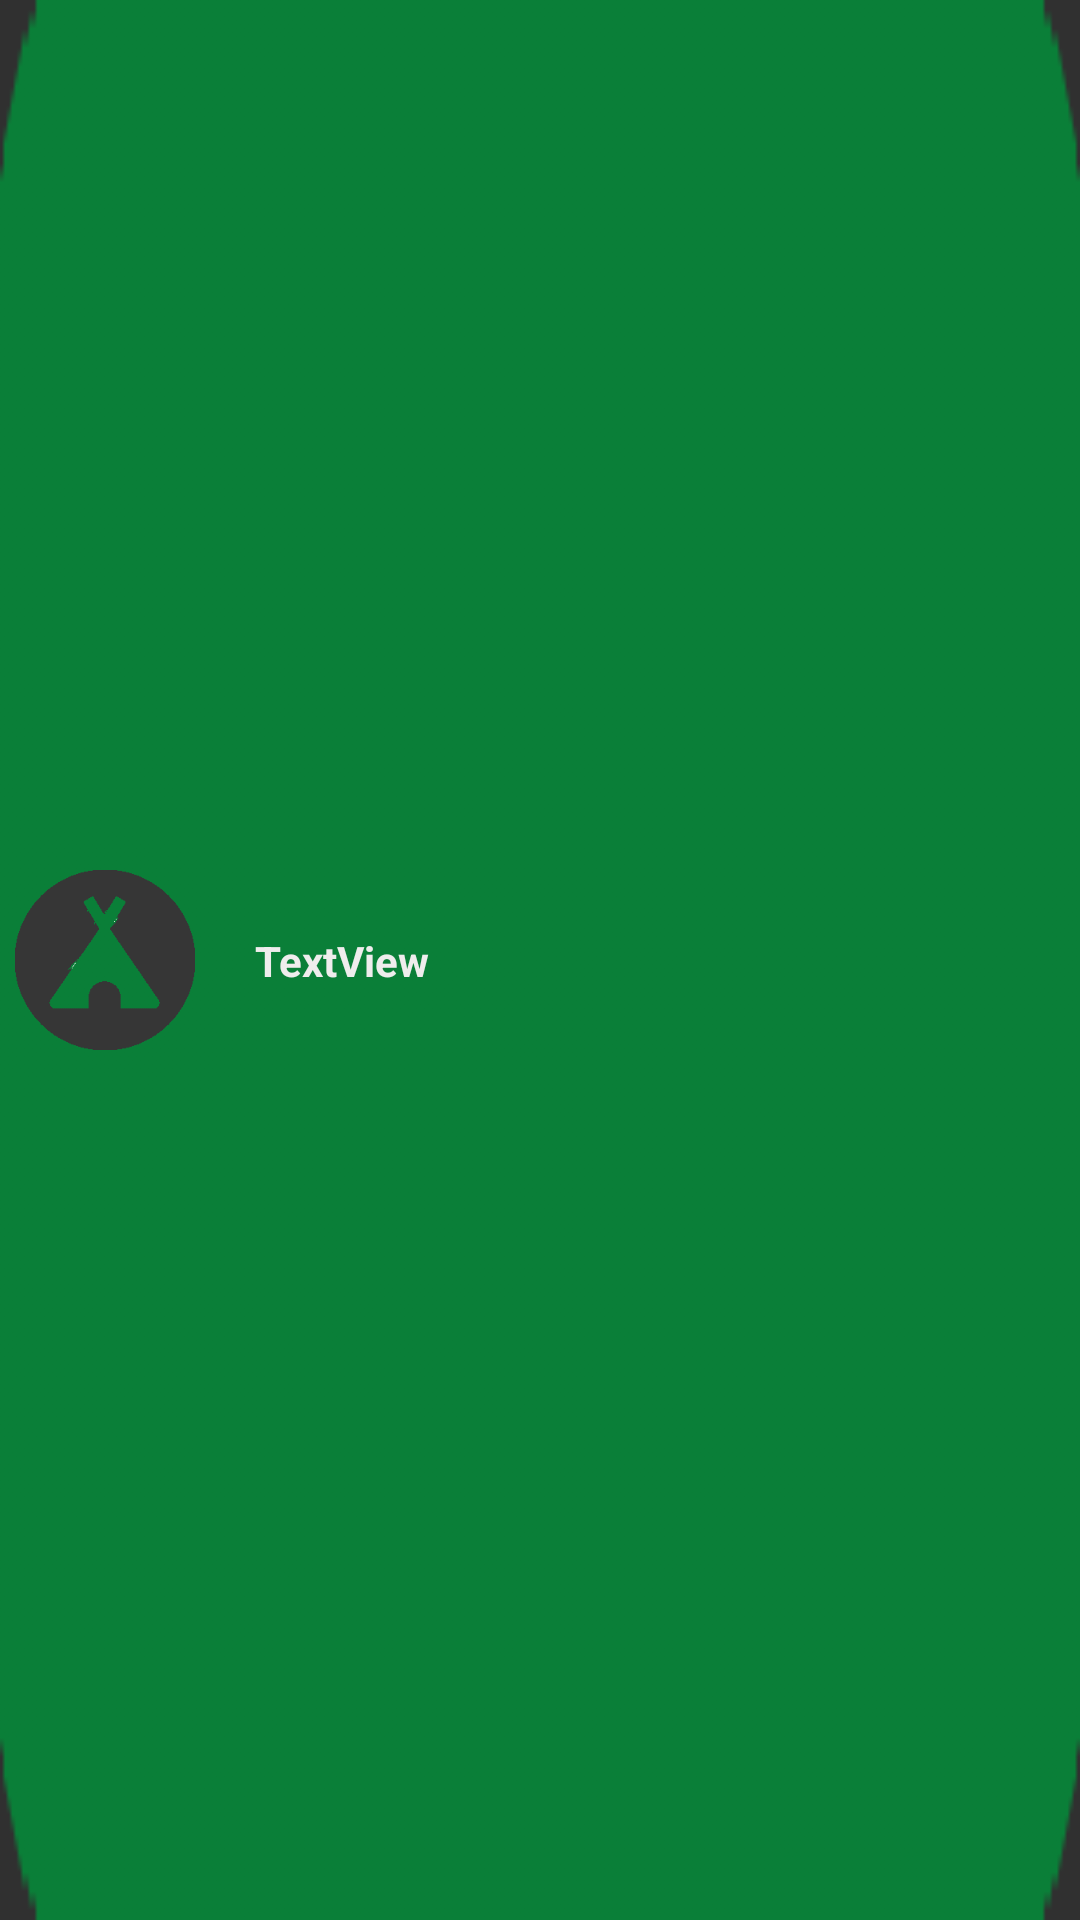

Locate icon controls on the screen. Image size 1080*1920, boxes as (x1, y1, x2, y2).
camp mode: (15, 870, 195, 1050)
